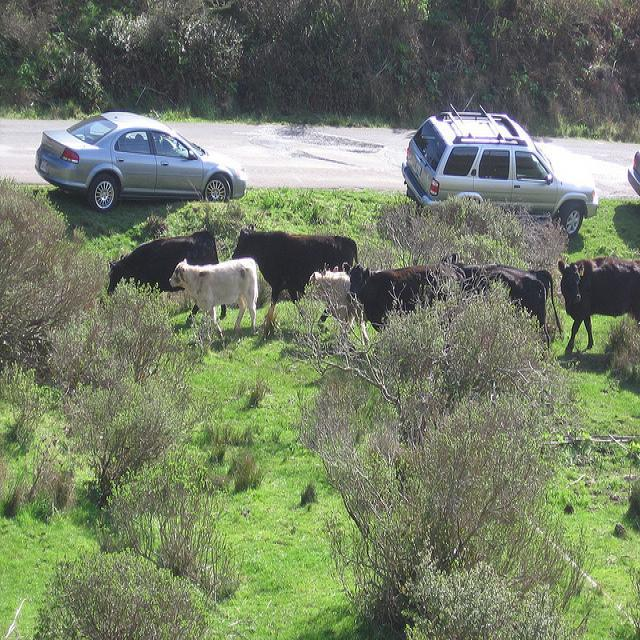cow: (232, 223, 358, 327), (105, 227, 225, 325), (555, 255, 638, 355), (167, 255, 257, 336), (455, 265, 562, 332), (348, 260, 451, 324), (303, 261, 367, 347)
